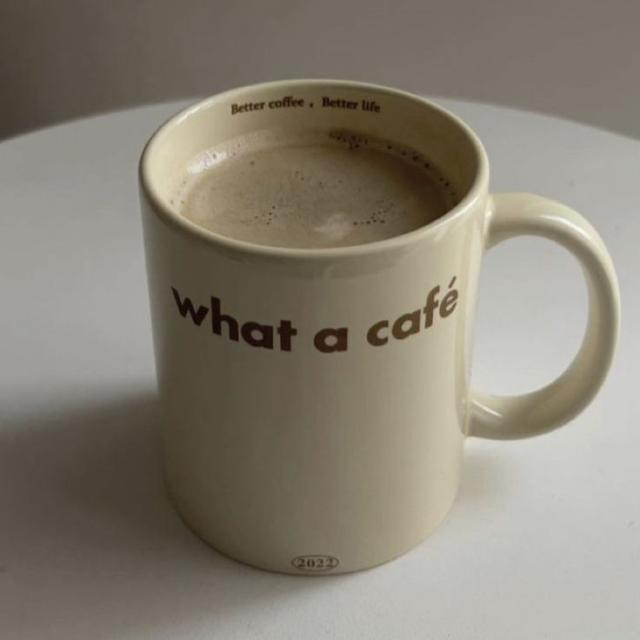glass cup: (138, 79, 620, 577)
